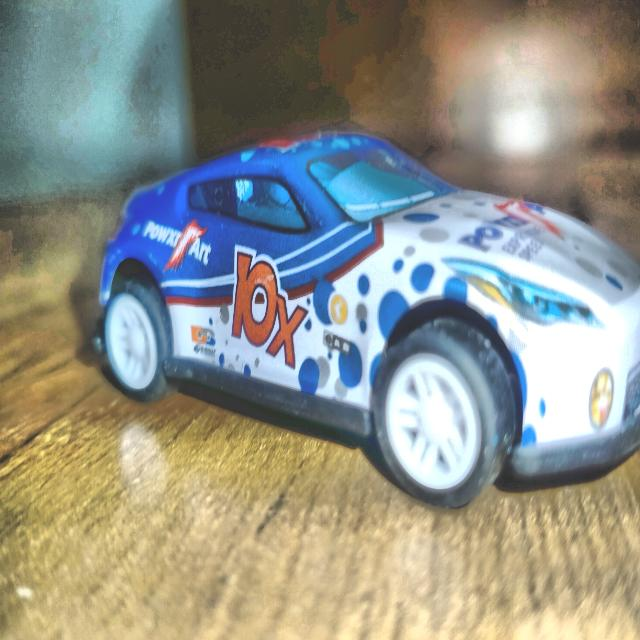Car: (97, 136, 640, 508)
